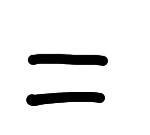eqv: (21, 49, 113, 109)
